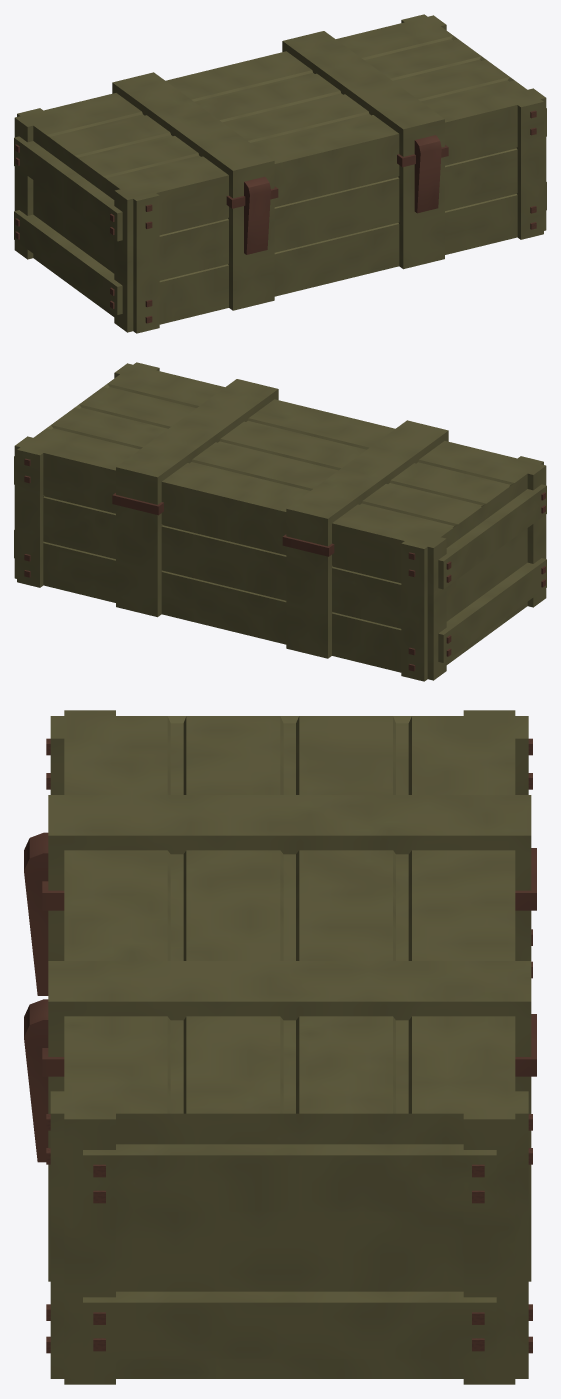
The model's file is BoxGreenClose.fbx.
3 views of the same model, one above another, from view 1: azimuth 30°, elevation 25°; view 2: azimuth 150°, elevation 25°; view 3: azimuth 270°, elevation 25° (orthographic). The views are drawn at different scales.
Parts seen in each view (by area): view 1: Cube.028; view 2: Cube.028; view 3: Cube.028.
Part boxes in pixels (box(x1,y1,x2,y2)): Cube.028: box(14, 14, 546, 333); Cube.028: box(14, 362, 546, 681); Cube.028: box(24, 710, 536, 1384).
Size of the model in its own units: 186 by 57.48 by 95.55.
